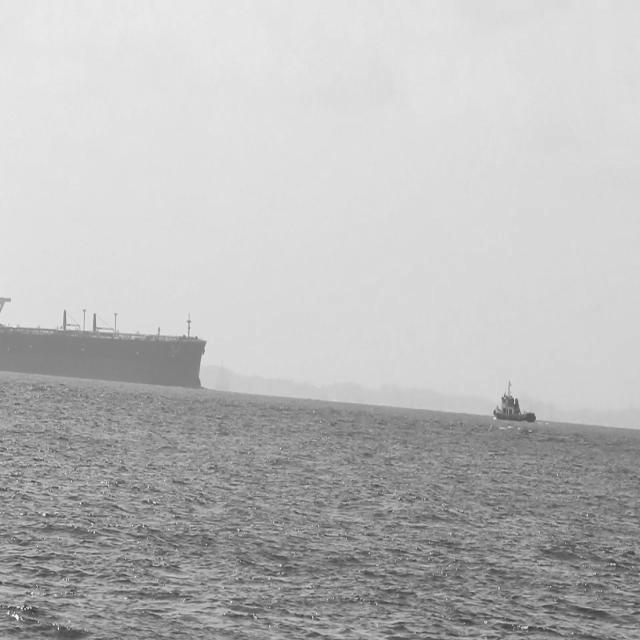ship: (0, 294, 206, 393), (489, 378, 537, 428)
